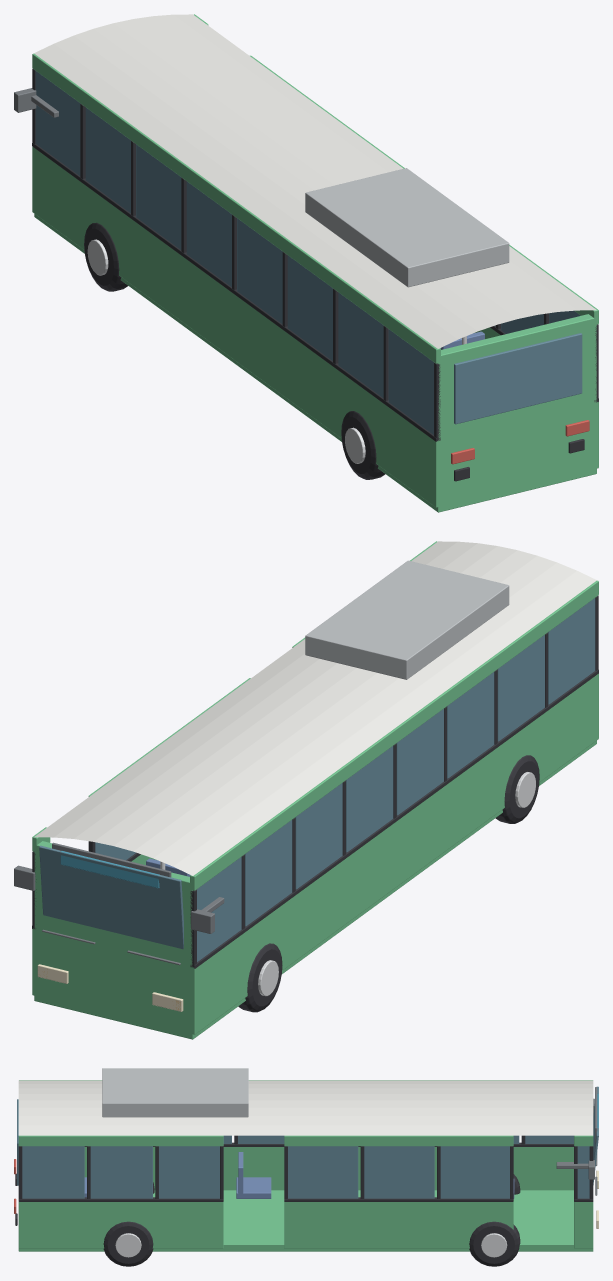
The model's file is Bus.fbx.
3 renders of one model, top to bottom at view 1: azimuth 30°, elevation 25°; view 2: azimuth 150°, elevation 25°; view 3: azimuth 270°, elevation 25°, orthographic. The views are drawn at different scales.
Visible parts, largest first — view 1: Bus; view 2: Bus; view 3: Bus.
Boxes of the visible parts, x1=… form: Bus: x1=14, y1=14, x2=598, y2=512; Bus: x1=14, y1=541, x2=598, y2=1039; Bus: x1=14, y1=1068, x2=598, y2=1266.
Size of the model in its own units: 310 by 325 by 1120.
